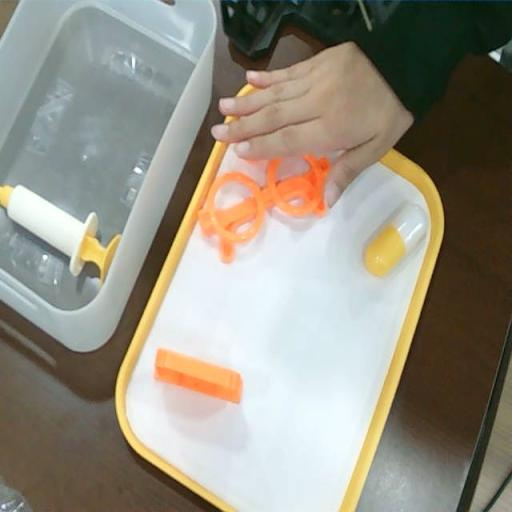hospital: (211, 50, 385, 206)
